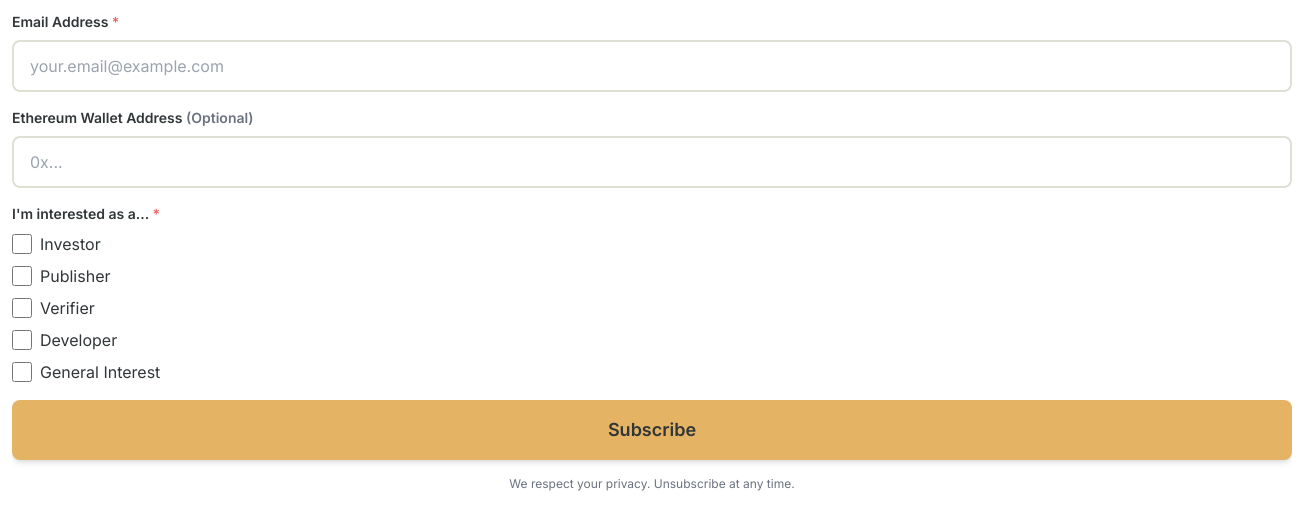
EmailCaptureForm Component Tests › should require at least one interest to be selected
The image size is (1304, 532).
Fill email but no interests
Step 1. Type "test@example.com" into the field labelled "Email Address *" → (652, 66), box [12,40,1292,92]
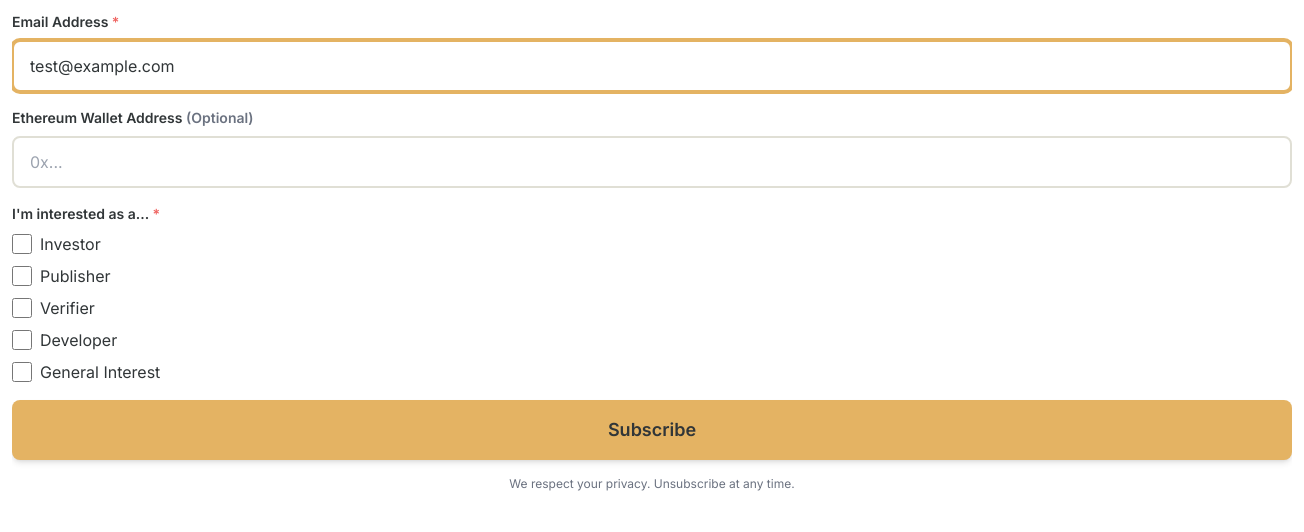
Step 2. Click the button "Subscribe" → (652, 430), box [12,400,1292,460]
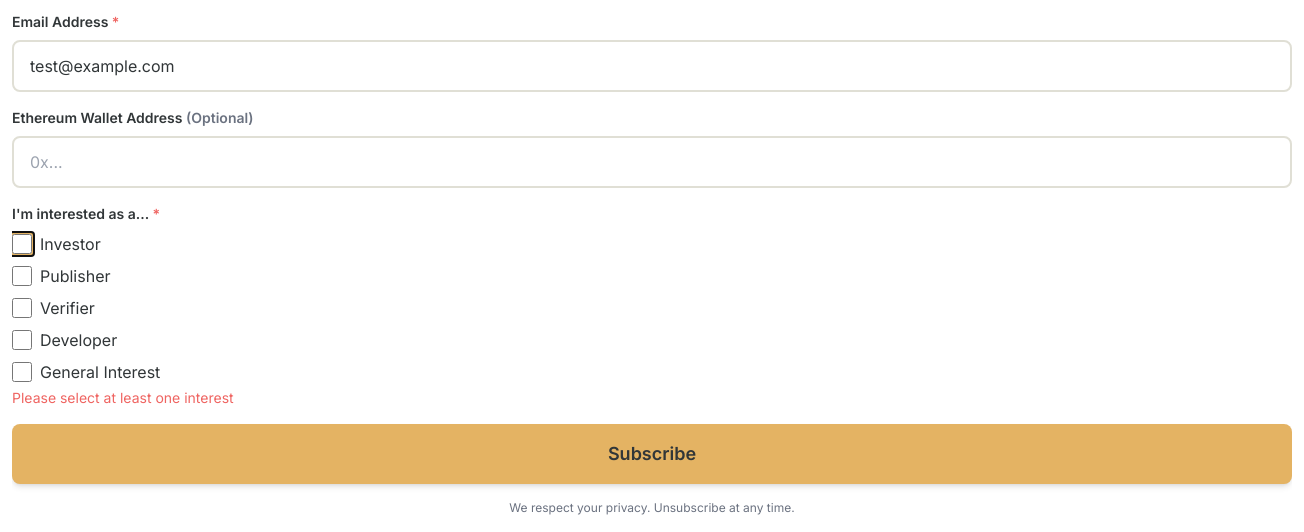
Expected: the text "Please select at least one interest" is shown, [12,389,234,406]
